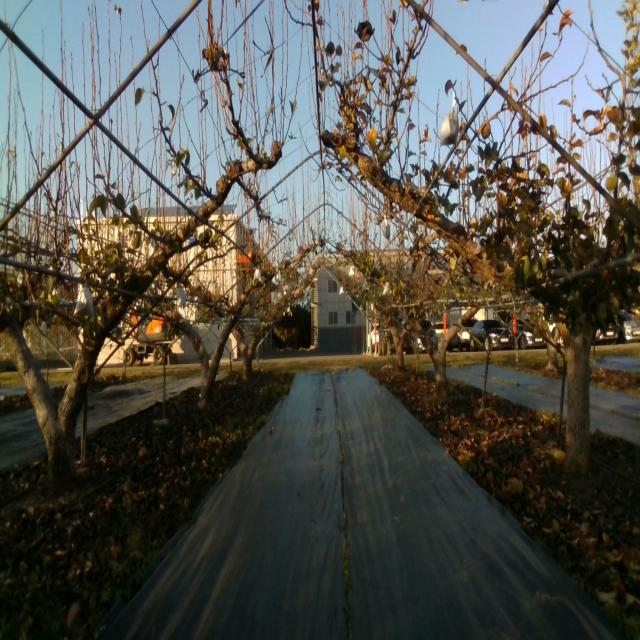pearbags: (440, 98, 460, 148), (73, 286, 96, 322), (176, 286, 186, 307)
